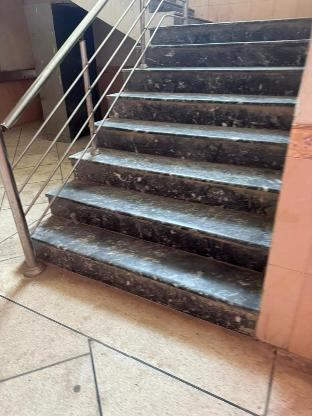stair: (50, 12, 298, 315)
